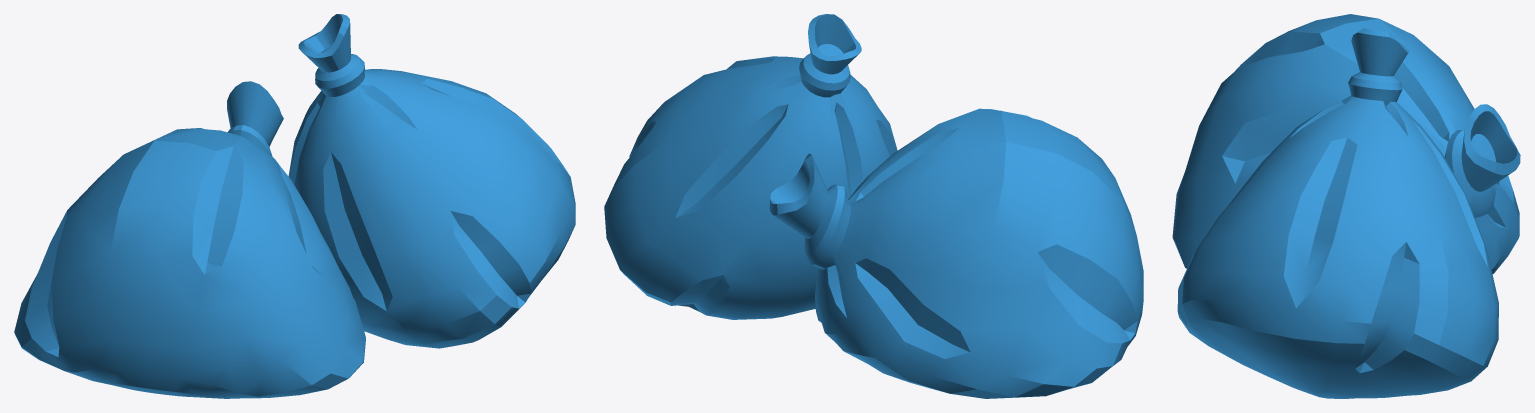
The model's file is papel.glb.
The picture shows the model from 3 angles, left to right: view 1: azimuth 30°, elevation 25°; view 2: azimuth 150°, elevation 25°; view 3: azimuth 270°, elevation 25°; orthographic projection. The views are drawn at different scales.
Parts seen in each view (by area): view 1: TrashBag_2; view 2: TrashBag_2; view 3: TrashBag_2.
Part boxes in pixels (left/top/right/bottom): TrashBag_2: left=14, top=14, right=575, bottom=398; TrashBag_2: left=604, top=14, right=1143, bottom=398; TrashBag_2: left=1172, top=14, right=1520, bottom=398.
Size of the model in its own units: 0.9061 by 0.53 by 0.5243.
